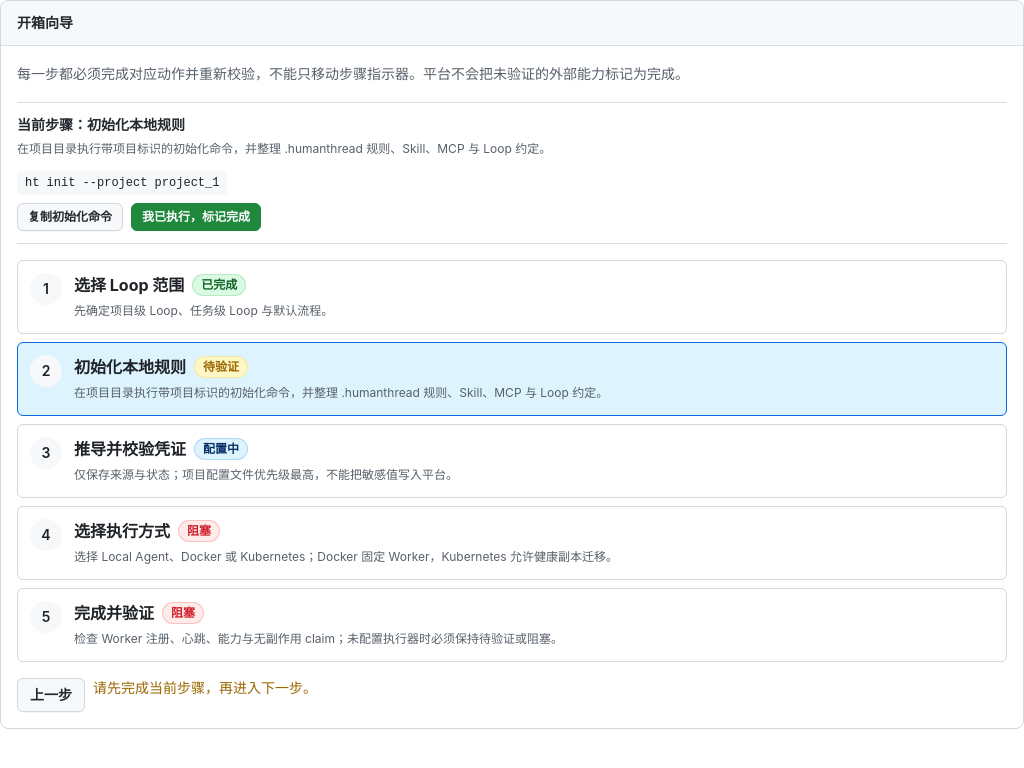
Scenario: 项目开箱向导 › does not skip an incomplete local-rules step
Click the button with aria-label "选择步骤：推导并校验凭证": point(46, 453) x1=17 y1=424 x2=1007 y2=498
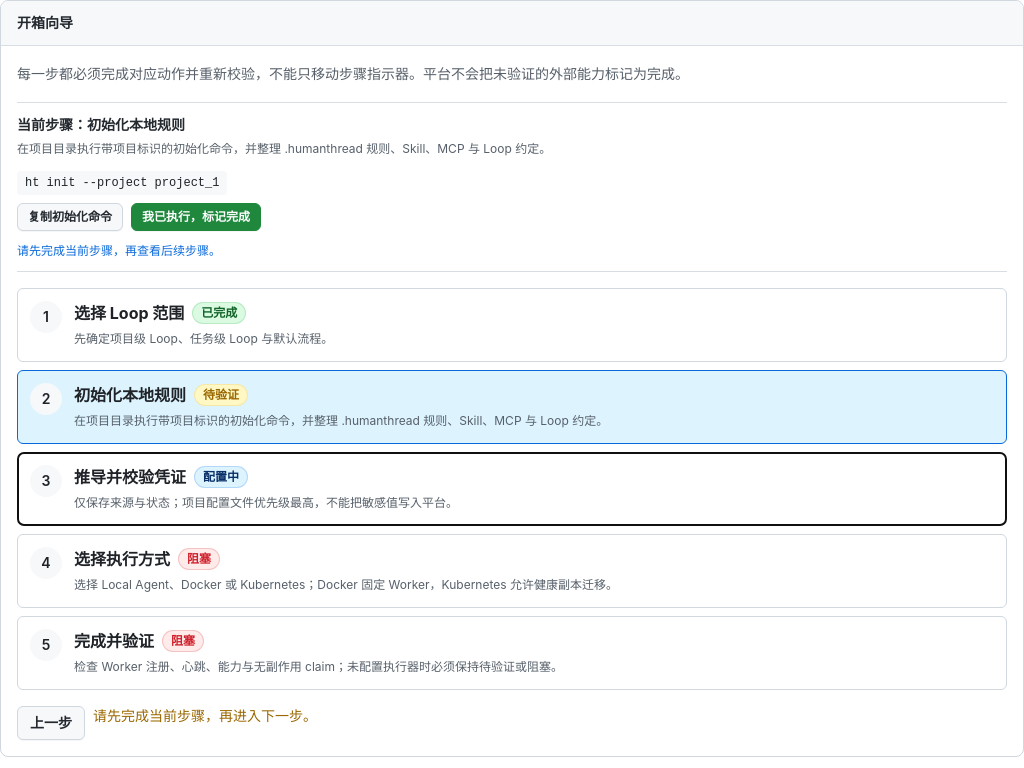
Expected: the text "当前步骤：初始化本地规则" is shown, x1=17 y1=116 x2=185 y2=133
Expected: the text "请先完成当前步骤，再查看后续步骤。" is shown, x1=17 y1=243 x2=221 y2=258
